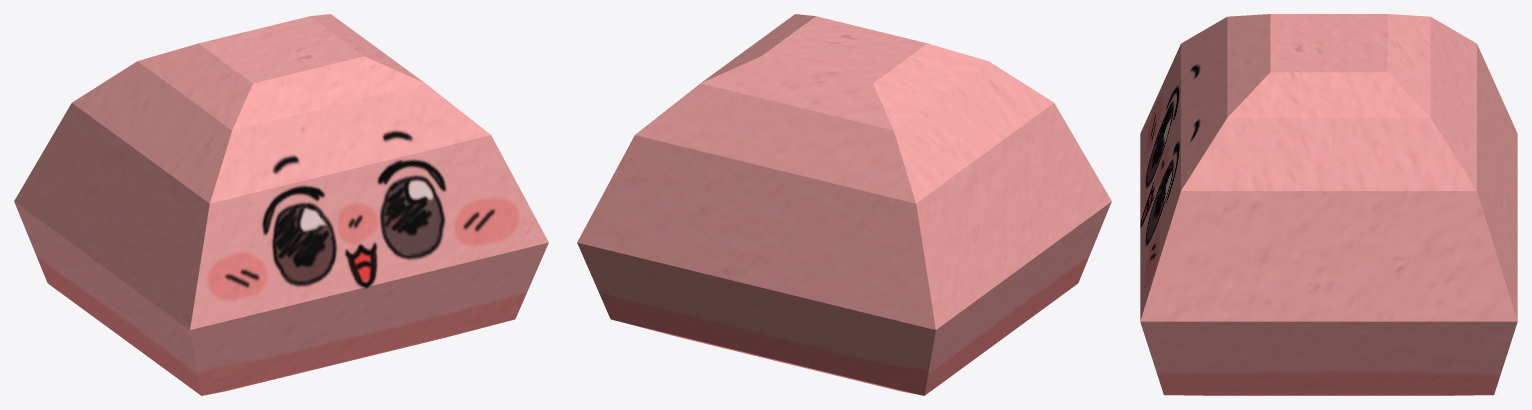
The model's file is слайм1.fbx.
3 renders of one model, left to right at view 1: azimuth 30°, elevation 25°; view 2: azimuth 150°, elevation 25°; view 3: azimuth 270°, elevation 25°, orthographic. The views are drawn at different scales.
Parts seen in each view (by area): view 1: Cube; view 2: Cube; view 3: Cube.
Boxes of the visible parts, x1=… form: Cube: x1=14, y1=14, x2=548, y2=395; Cube: x1=577, y1=14, x2=1111, y2=395; Cube: x1=1140, y1=14, x2=1517, y2=395.
Bounding box in the file's own units: 198 × 145 × 168.
